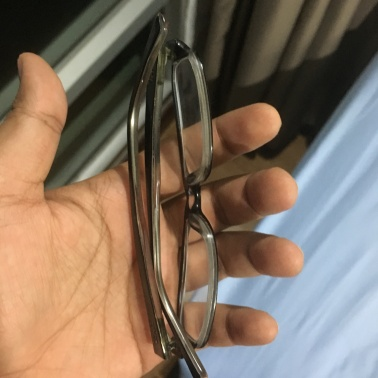glasses: (114, 17, 227, 378)
